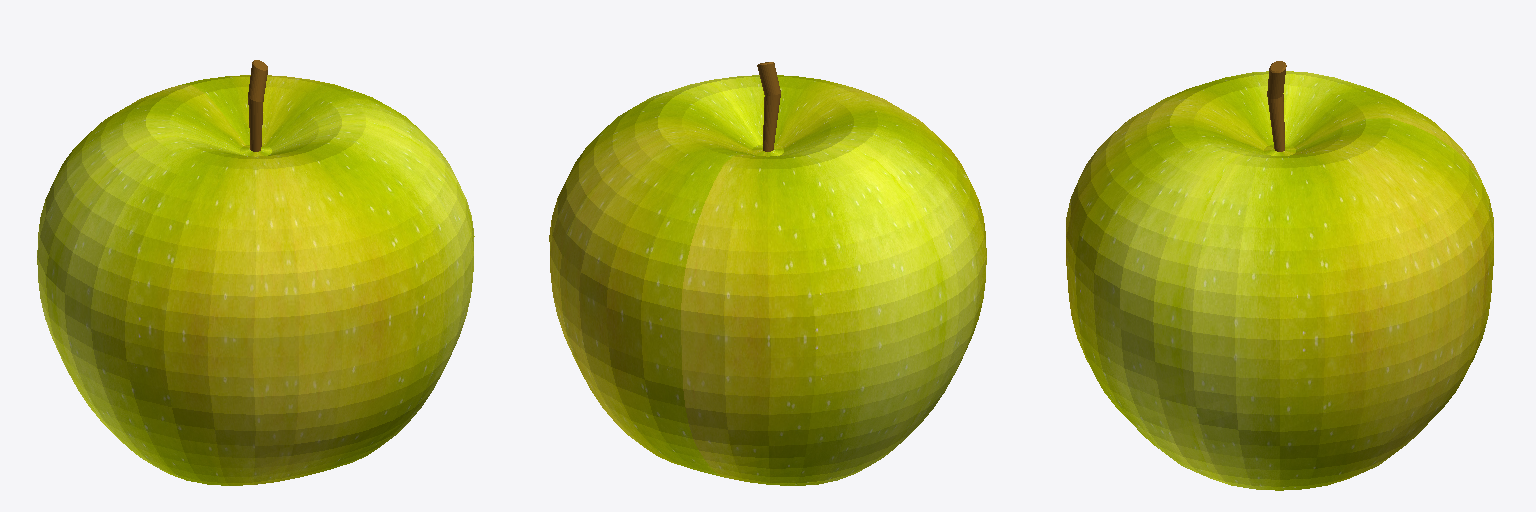
The picture shows the model from 3 angles: view 1: azimuth 30°, elevation 25°; view 2: azimuth 150°, elevation 25°; view 3: azimuth 270°, elevation 25°; orthographic projection.
Visible parts, largest first — view 1: polySurface1_Untitled.075; view 2: polySurface1_Untitled.075; view 3: polySurface1_Untitled.075.
Boxes of the visible parts, x1,y1,x2,y2 form: polySurface1_Untitled.075: [37, 60, 474, 485]; polySurface1_Untitled.075: [549, 62, 986, 485]; polySurface1_Untitled.075: [1066, 61, 1493, 490].
Size of the model in its own units: 0.1346 by 0.1306 by 0.1305.
1 materials, 1 textured.